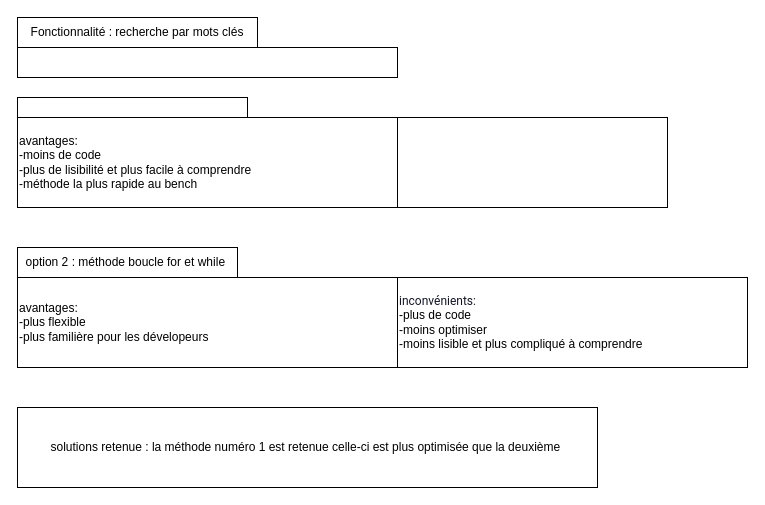
Image size: 765x505. Some labels were removed from this diagram. Each missing label, with the centre of its shape:
inconvénients :: (532,162)
option 1 : méthode filter, map et foreach: (132,107)
problématique: offrir un mode de recherche optimiser et performant: (207,62)
